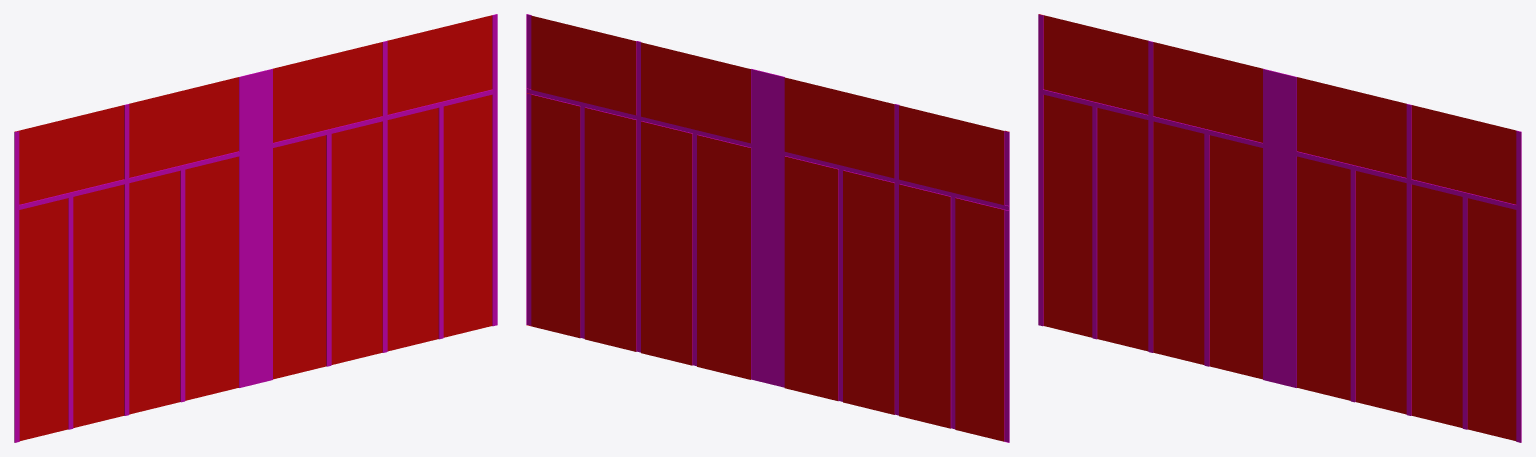
Rendered from wall_reception_long.fbx.
3 renders of one model, left to right at view 1: azimuth 30°, elevation 25°; view 2: azimuth 150°, elevation 25°; view 3: azimuth 330°, elevation 25°, orthographic.
Visible parts, largest first — view 1: wall_reception_long; view 2: wall_reception_long; view 3: wall_reception_long.
Boxes of the visible parts, x1,y1,x2,y2 form: wall_reception_long: (14,14,497,442); wall_reception_long: (526,14,1009,442); wall_reception_long: (1038,14,1521,442).
Bounding box in the file's own units: 6.5 × 4 × 0.0127.
